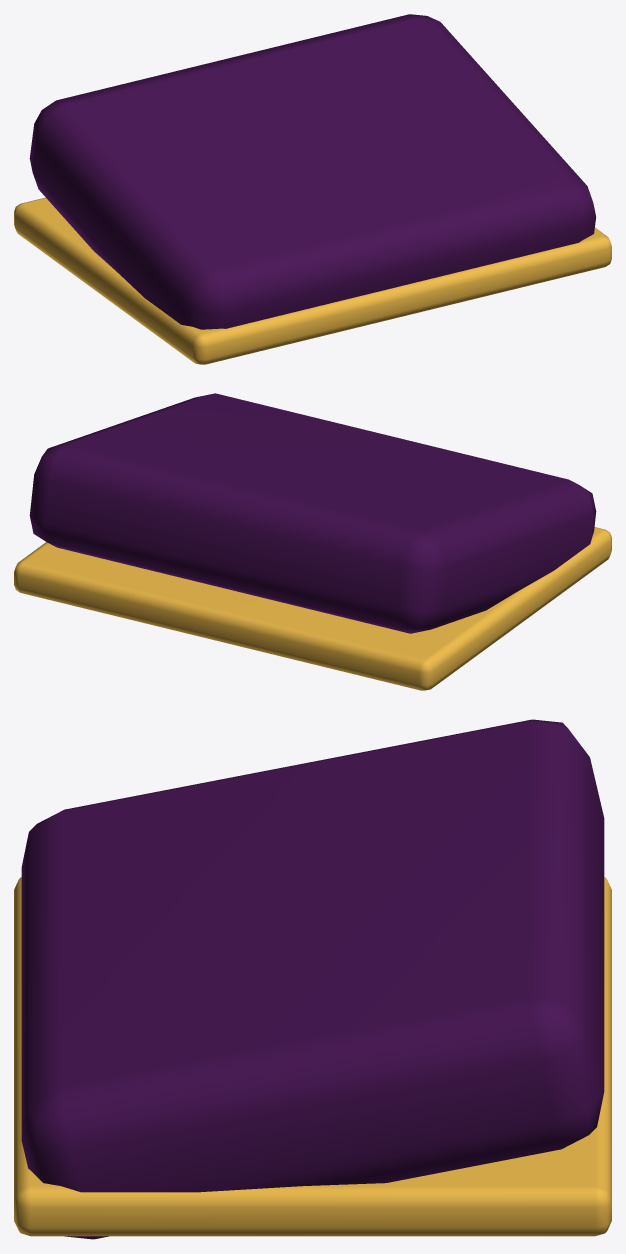
File: jewellery-pad.glb
3 renders of one model, top to bottom at view 1: azimuth 30°, elevation 25°; view 2: azimuth 150°, elevation 25°; view 3: azimuth 270°, elevation 25°, orthographic. The views are drawn at different scales.
Parts seen in each view (by area): view 1: velvet_pad, brass_foot; view 2: velvet_pad, brass_foot; view 3: velvet_pad, brass_foot.
Part boxes in pixels (x1,y1,x2,y2): velvet_pad: (29,14,596,329); brass_foot: (14,197,611,364); velvet_pad: (29,393,596,633); brass_foot: (14,527,611,690); velvet_pad: (21,719,604,1239); brass_foot: (14,877,611,1236).
Bounding box in the file's own units: 0.45 × 0.156 × 0.35.
